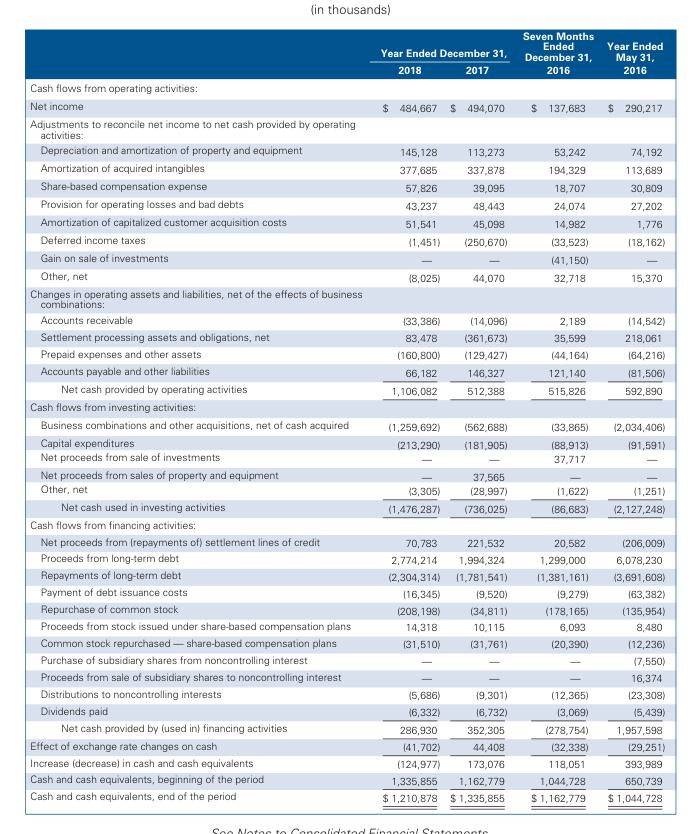table: (29, 29, 664, 803)
table column: (29, 29, 364, 803), (514, 29, 599, 803), (364, 29, 444, 803), (444, 29, 514, 803), (599, 29, 664, 803)
table column header: (29, 29, 664, 78)
table projected row header: (29, 115, 664, 141), (29, 285, 664, 311), (29, 78, 664, 96), (29, 398, 664, 414), (29, 516, 664, 532)
table row: (29, 29, 664, 60), (29, 115, 664, 141), (29, 285, 664, 311), (29, 414, 664, 434), (29, 96, 664, 115), (29, 60, 664, 78), (29, 78, 664, 96), (29, 141, 664, 159), (29, 159, 664, 177), (29, 177, 664, 195), (29, 195, 664, 213), (29, 213, 664, 231), (29, 231, 664, 249), (29, 249, 664, 267), (29, 267, 664, 285), (29, 362, 664, 380), (29, 380, 664, 398), (29, 498, 664, 516), (29, 719, 664, 737), (29, 311, 664, 328), (29, 328, 664, 345), (29, 345, 664, 362), (29, 532, 664, 549), (29, 549, 664, 566), (29, 566, 664, 583), (29, 583, 664, 600), (29, 600, 664, 617), (29, 617, 664, 634), (29, 634, 664, 651), (29, 651, 664, 668), (29, 668, 664, 685), (29, 685, 664, 702), (29, 702, 664, 719), (29, 737, 664, 754), (29, 754, 664, 771), (29, 398, 664, 414), (29, 434, 664, 450), (29, 450, 664, 466), (29, 466, 664, 482), (29, 482, 664, 498), (29, 516, 664, 532), (29, 771, 664, 787), (29, 787, 664, 803)
table spanning cell: (364, 29, 514, 60), (514, 29, 599, 78), (599, 29, 664, 78)
